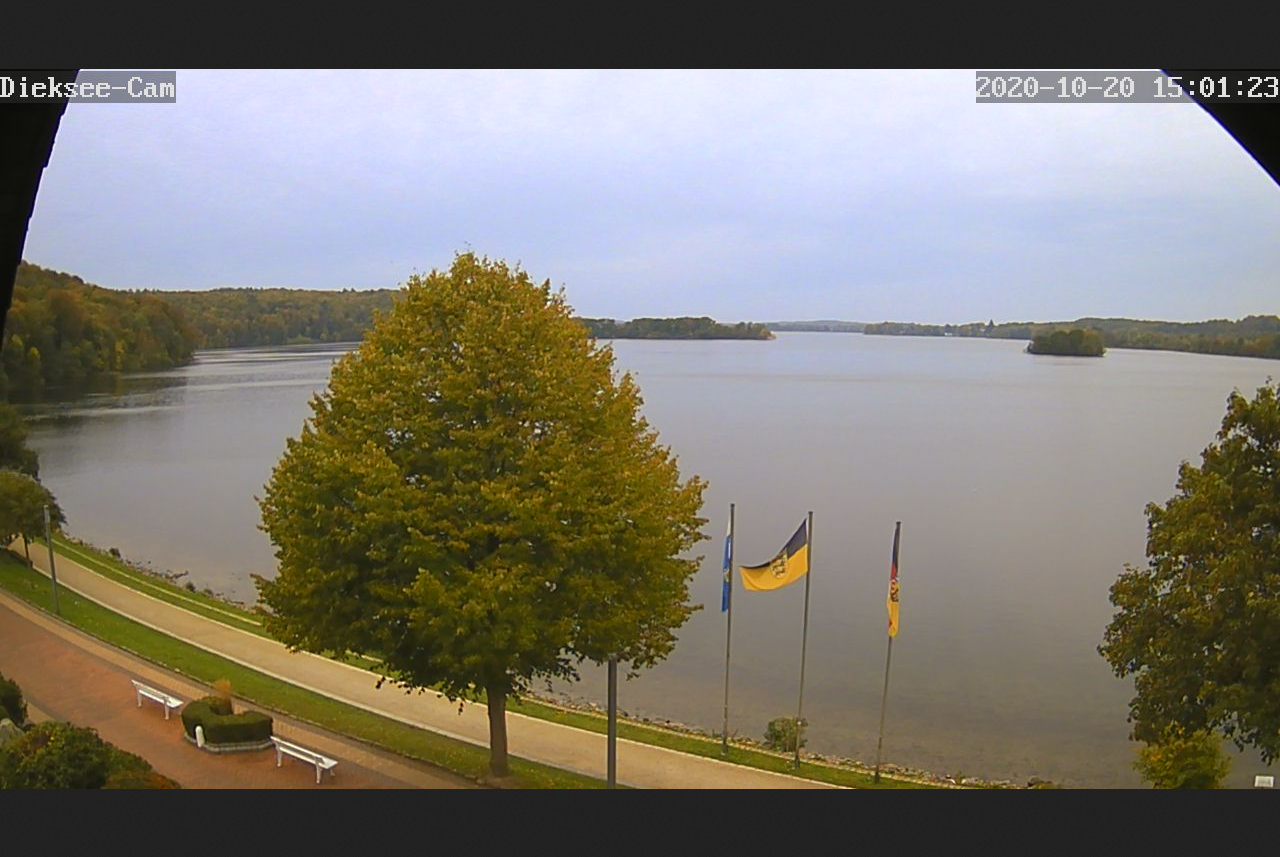maybe: (737, 506, 821, 607)
no: (877, 513, 906, 647), (714, 502, 745, 620)
